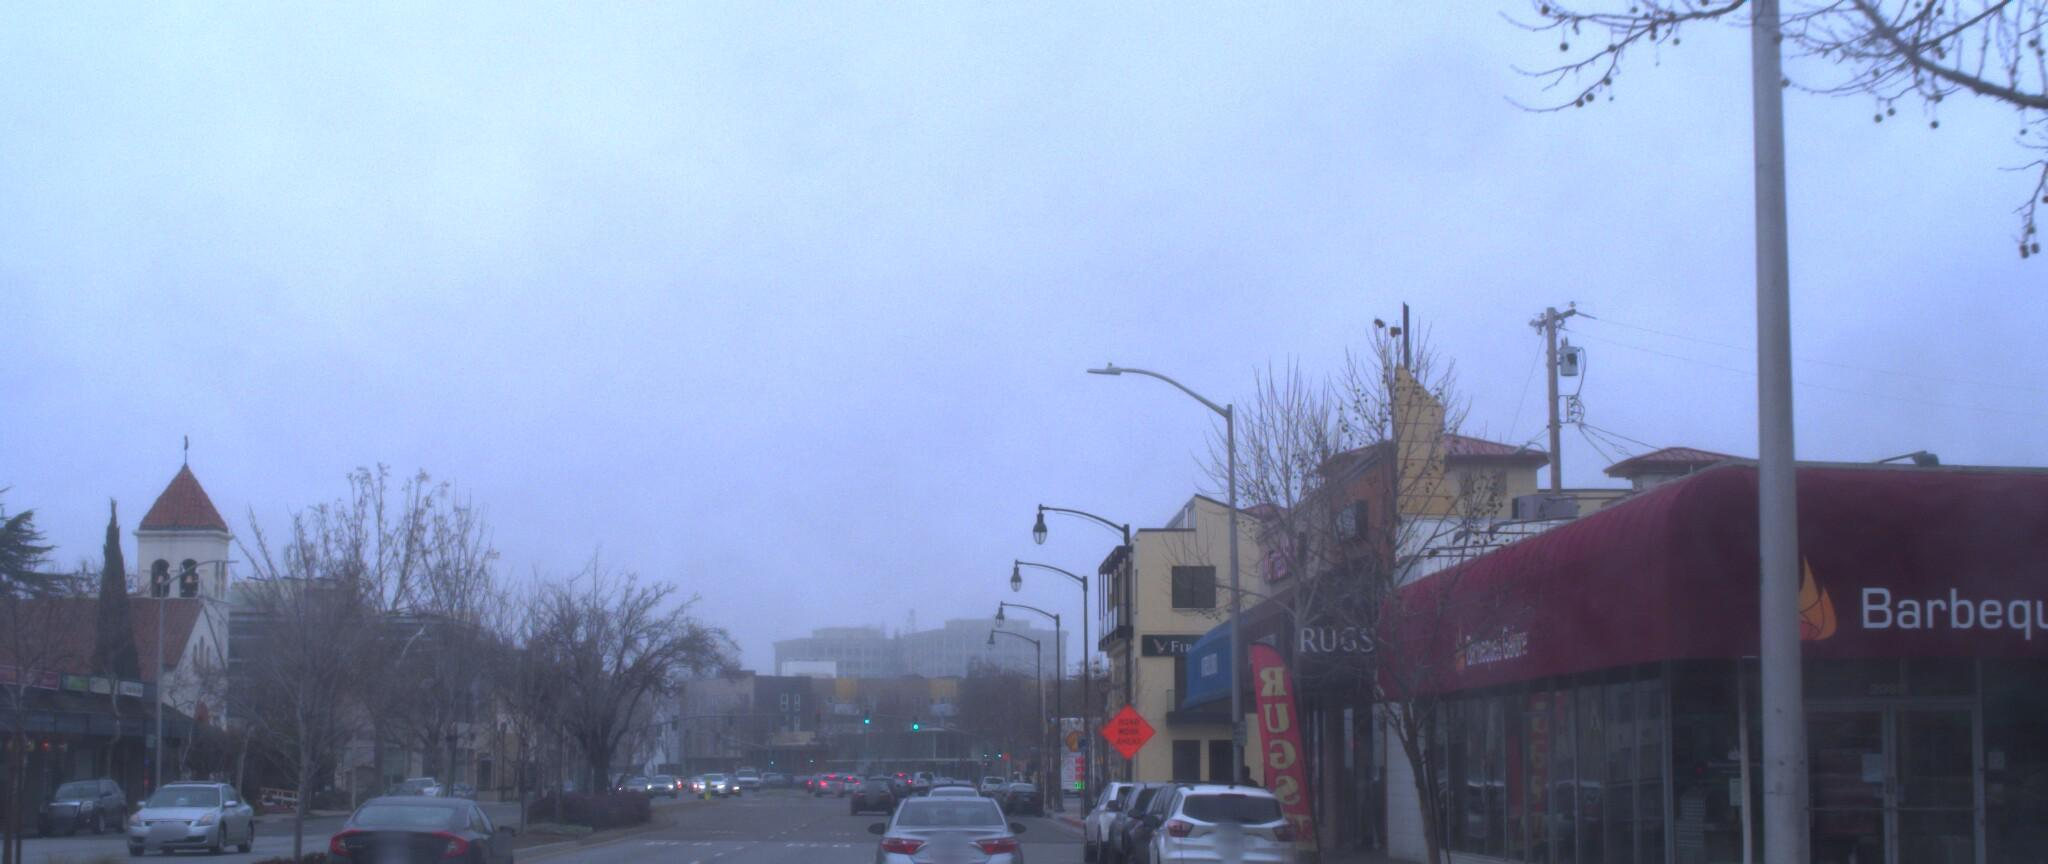car: (295, 780, 525, 864), (859, 764, 1027, 864), (1140, 773, 1309, 864), (104, 773, 253, 851)
